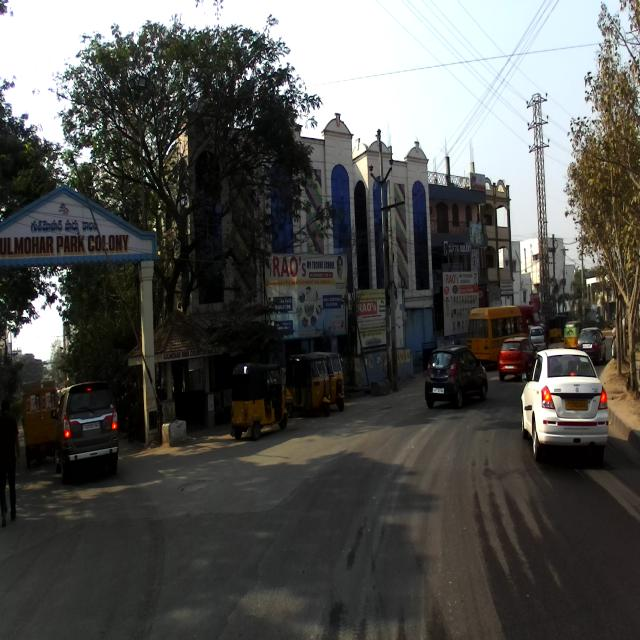auto ahead at: (229, 350, 292, 450)
car ahead at: (519, 332, 615, 458), (52, 368, 126, 486), (420, 337, 491, 415)
